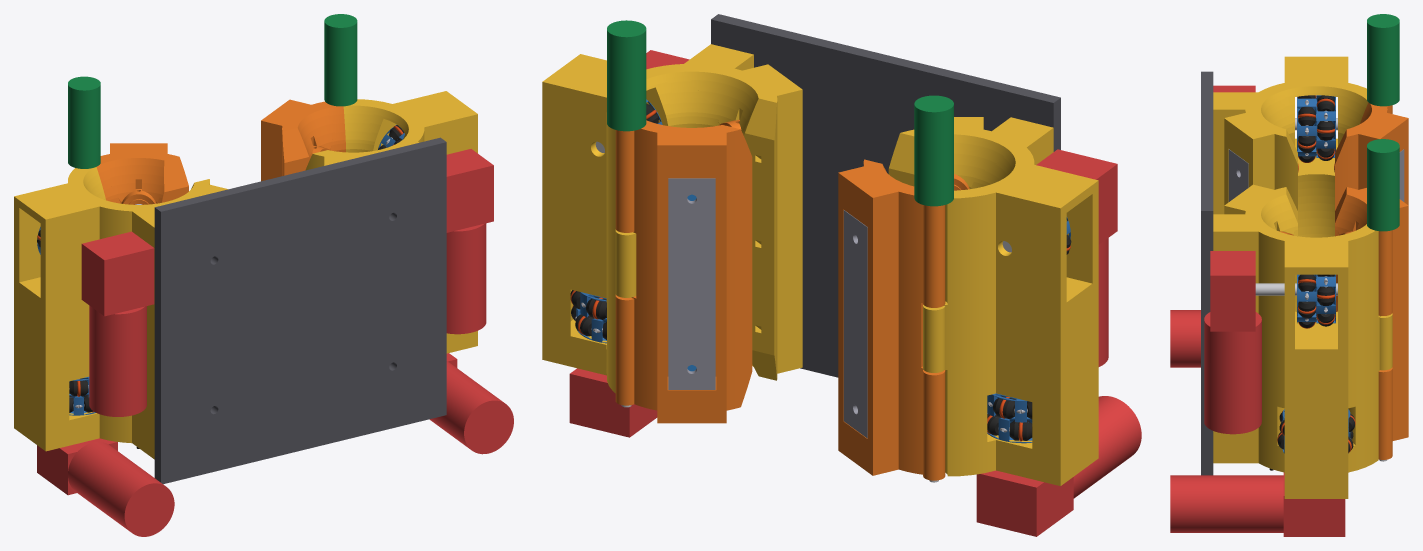
File: cart-sleeves.glb
The picture shows the model from 3 angles, left to right: view 1: azimuth 30°, elevation 25°; view 2: azimuth 150°, elevation 25°; view 3: azimuth 270°, elevation 25°; orthographic projection. The views are drawn at different scales.
Parts seen in each view (by area): view 1: base_plate, hand_B_sleeve, hand_C_sleeve, hand_B_roll_motor, hand_B_drive_motor, hand_B_drive_gearbox, hand_C_jaw, hand_B_jaw, hand_C_roll_motor, hand_C_drive_motor, hand_C_drive_gearbox, hand_C_jaw_motor (+4 smaller); view 2: hand_B_sleeve, hand_C_sleeve, base_plate, hand_C_jaw, hand_B_jaw, hand_C_p60_cap, hand_B_p60_cap, hand_B_roll_gearbox, hand_C_roll_gearbox, hand_B_roll_motor, hand_B_jaw_motor, hand_C_jaw_motor (+7 smaller); view 3: hand_C_sleeve, hand_B_sleeve, hand_C_jaw, hand_C_roll_motor, hand_C_drive_motor, base_plate, hand_B_jaw, hand_C_drive_gearbox, hand_C_roll_gearbox, hand_C_jaw_motor, hand_B_jaw_motor, hand_B_roll_motor (+12 smaller).
Part boxes in pixels (bbox=[...]): base_plate: bbox=[154, 137, 446, 484]; hand_B_sleeve: bbox=[14, 167, 227, 459]; hand_C_sleeve: bbox=[305, 91, 477, 353]; hand_B_roll_motor: bbox=[68, 442, 174, 536]; hand_B_drive_motor: bbox=[89, 305, 146, 416]; hand_B_drive_gearbox: bbox=[81, 231, 154, 316]; hand_C_jaw: bbox=[261, 99, 345, 181]; hand_B_jaw: bbox=[96, 143, 188, 203]; hand_C_roll_motor: bbox=[429, 361, 513, 454]; hand_C_drive_motor: bbox=[446, 223, 486, 334]; hand_C_drive_gearbox: bbox=[446, 149, 493, 232]; hand_C_jaw_motor: bbox=[324, 14, 357, 83]; hand_B_sleeve: bbox=[888, 117, 1098, 485]; hand_C_sleeve: bbox=[542, 44, 802, 393]; base_plate: bbox=[711, 14, 1060, 377]; hand_C_jaw: bbox=[615, 120, 752, 423]; hand_B_jaw: bbox=[838, 159, 945, 480]; hand_C_p60_cap: bbox=[668, 178, 715, 389]; hand_B_p60_cap: bbox=[843, 210, 867, 438]; hand_B_roll_gearbox: bbox=[976, 470, 1073, 536]; hand_C_roll_gearbox: bbox=[569, 368, 657, 437]; hand_B_roll_motor: bbox=[1073, 396, 1141, 498]; hand_B_jaw_motor: bbox=[914, 95, 953, 179]; hand_C_jaw_motor: bbox=[607, 20, 646, 104]; hand_C_sleeve: bbox=[1213, 184, 1392, 498]; hand_B_sleeve: bbox=[1213, 56, 1368, 237]; hand_C_jaw: bbox=[1335, 187, 1408, 459]; hand_C_roll_motor: bbox=[1170, 475, 1283, 532]; hand_C_drive_motor: bbox=[1204, 312, 1261, 434]; base_plate: bbox=[1201, 71, 1213, 475]; hand_B_jaw: bbox=[1335, 102, 1408, 210]; hand_C_drive_gearbox: bbox=[1210, 251, 1255, 331]; hand_C_roll_gearbox: bbox=[1283, 472, 1345, 536]; hand_C_jaw_motor: bbox=[1367, 139, 1399, 208]; hand_B_jaw_motor: bbox=[1367, 14, 1399, 83]; hand_B_roll_motor: bbox=[1170, 310, 1200, 367].
Bounding box in the file's own units: 242 × 195 × 116.
